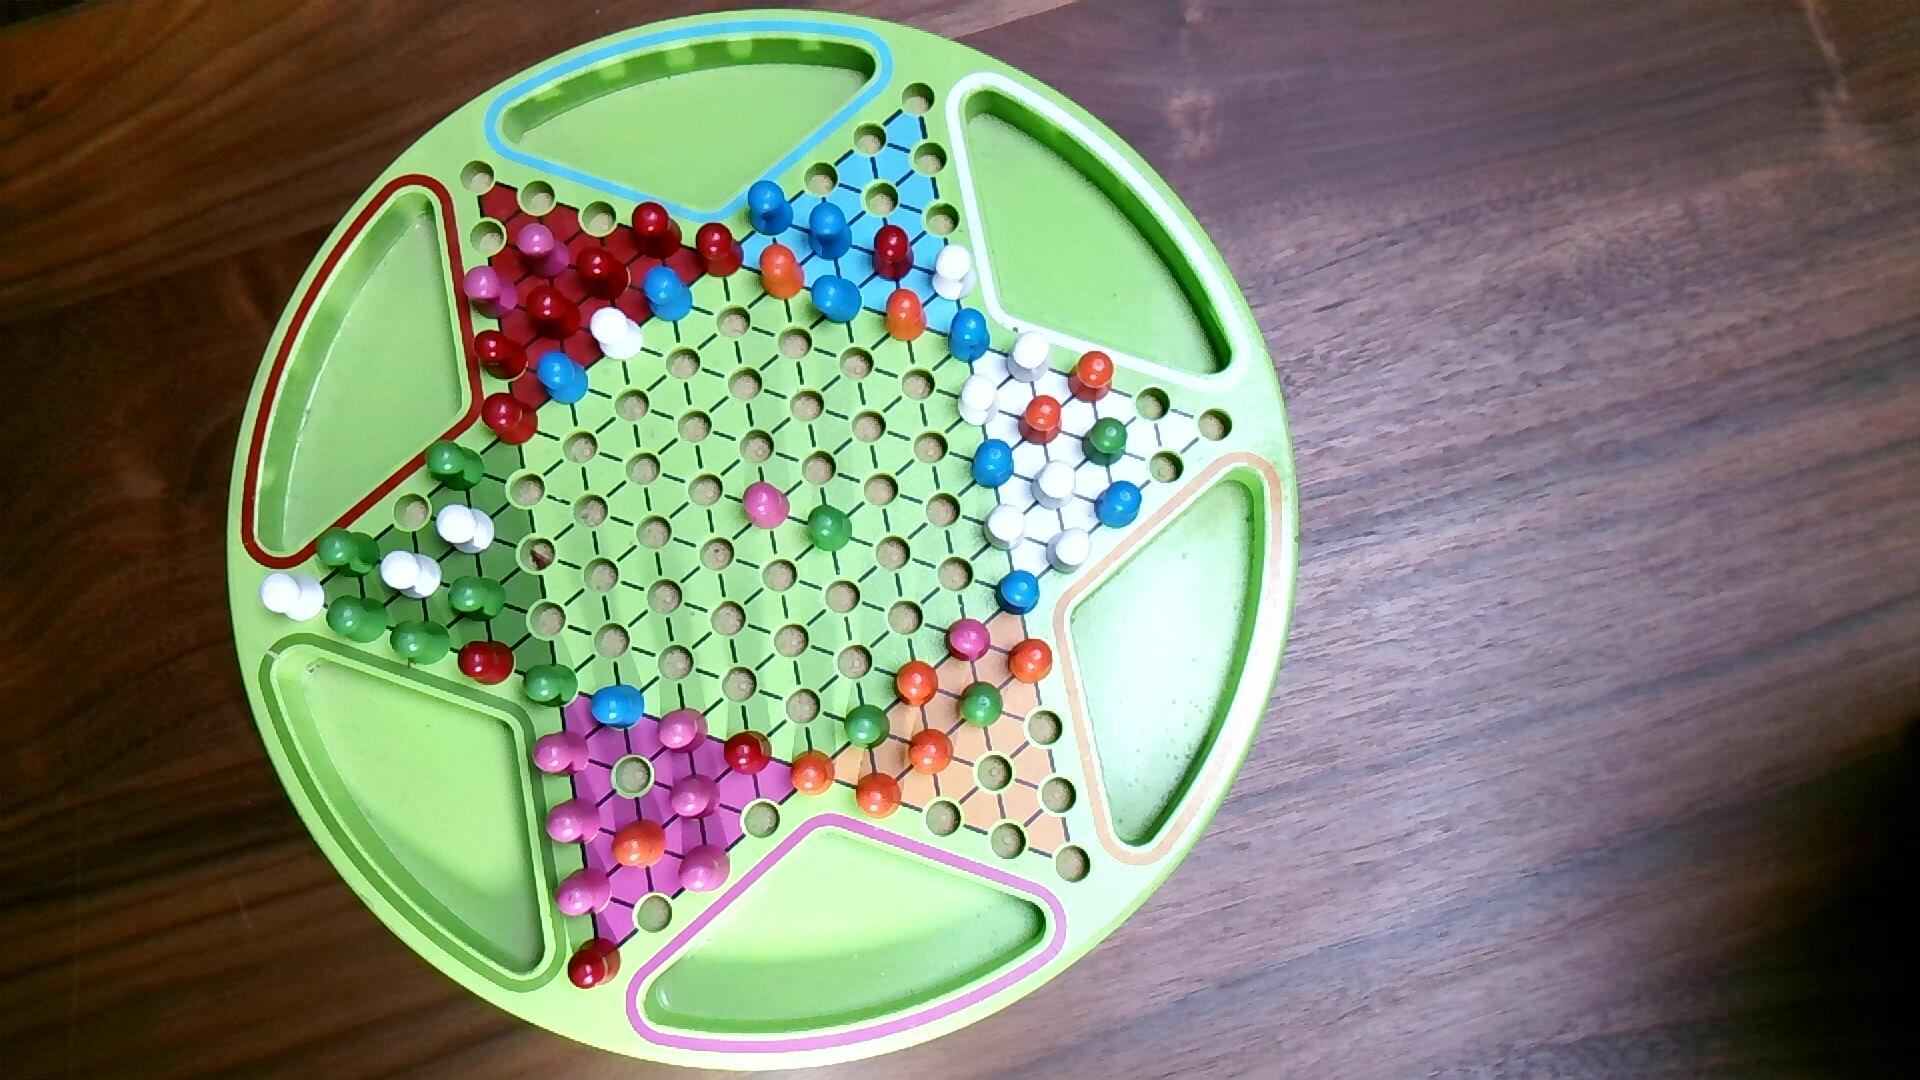B: (640, 265, 695, 324), (535, 349, 589, 407), (806, 200, 855, 262), (808, 274, 864, 327), (746, 179, 796, 237), (589, 684, 646, 733), (945, 307, 992, 367), (1093, 480, 1145, 531), (969, 438, 1017, 492), (993, 568, 1042, 618)
G: (315, 526, 382, 580), (326, 593, 392, 645), (425, 438, 485, 493), (388, 620, 454, 667), (447, 575, 508, 624), (521, 662, 580, 711), (1081, 415, 1130, 469), (804, 502, 855, 554), (957, 680, 1005, 731), (843, 704, 891, 752)
O: (611, 818, 669, 872), (757, 243, 807, 303), (1067, 349, 1117, 406), (884, 287, 930, 344), (1017, 394, 1064, 448), (855, 771, 905, 822), (907, 728, 956, 778), (893, 659, 940, 709), (790, 748, 837, 798), (1007, 638, 1055, 686)
R: (524, 284, 584, 342), (481, 390, 541, 448), (574, 247, 632, 303), (632, 200, 684, 262), (566, 938, 624, 992), (473, 328, 530, 382), (695, 222, 746, 281), (458, 640, 517, 688), (870, 224, 916, 284), (723, 731, 774, 778)
R2: (514, 222, 572, 282), (553, 865, 615, 919), (462, 264, 520, 320), (531, 728, 592, 781), (676, 843, 733, 895), (545, 796, 603, 848), (655, 705, 709, 757), (667, 771, 723, 822), (742, 480, 793, 531), (943, 617, 993, 665)
W: (258, 572, 328, 624), (378, 550, 444, 603), (435, 504, 497, 556), (589, 306, 646, 363), (931, 244, 978, 303), (1005, 330, 1054, 386), (1029, 460, 1079, 514), (955, 375, 1004, 430), (1044, 526, 1095, 578), (981, 502, 1029, 554)
